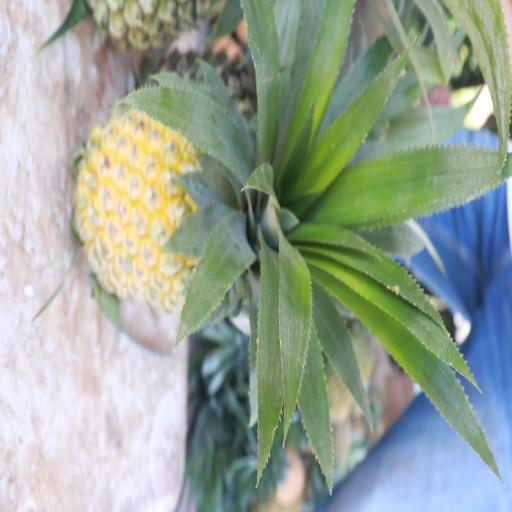Pineapple - v8 v1: (80, 99, 326, 305)
